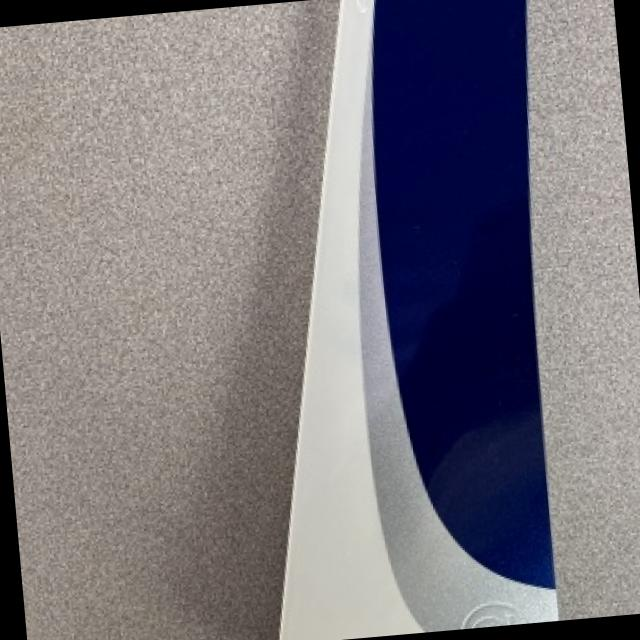healthy: (284, 0, 558, 640)
